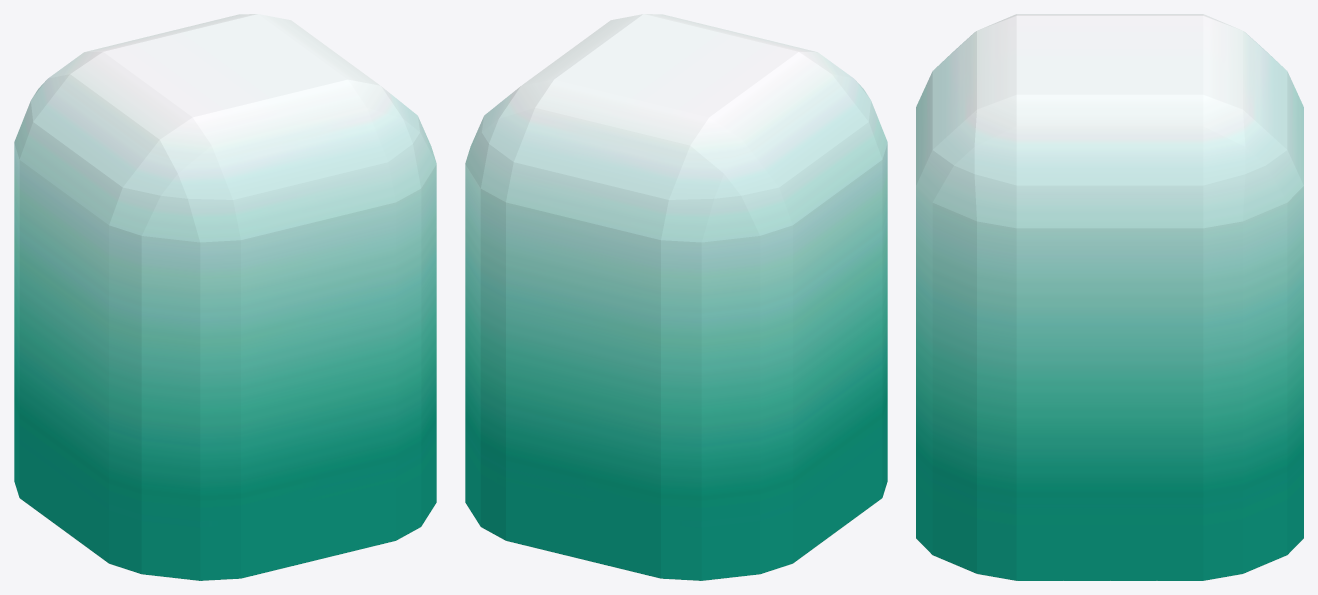
The model's file is fog.glb.
3 views of the same model, side by side, from view 1: azimuth 30°, elevation 25°; view 2: azimuth 150°, elevation 25°; view 3: azimuth 270°, elevation 25° (orthographic). The views are drawn at different scales.
Visible parts, largest first — view 1: Cube.003; view 2: Cube.003; view 3: Cube.003.
Part boxes in pixels (bbox=[...]): Cube.003: bbox=[14, 14, 436, 580]; Cube.003: bbox=[465, 14, 887, 580]; Cube.003: bbox=[916, 14, 1303, 580].
Bounding box in the file's own units: 2.51 × 3.16 × 2.51.
1 material, 1 textured.
